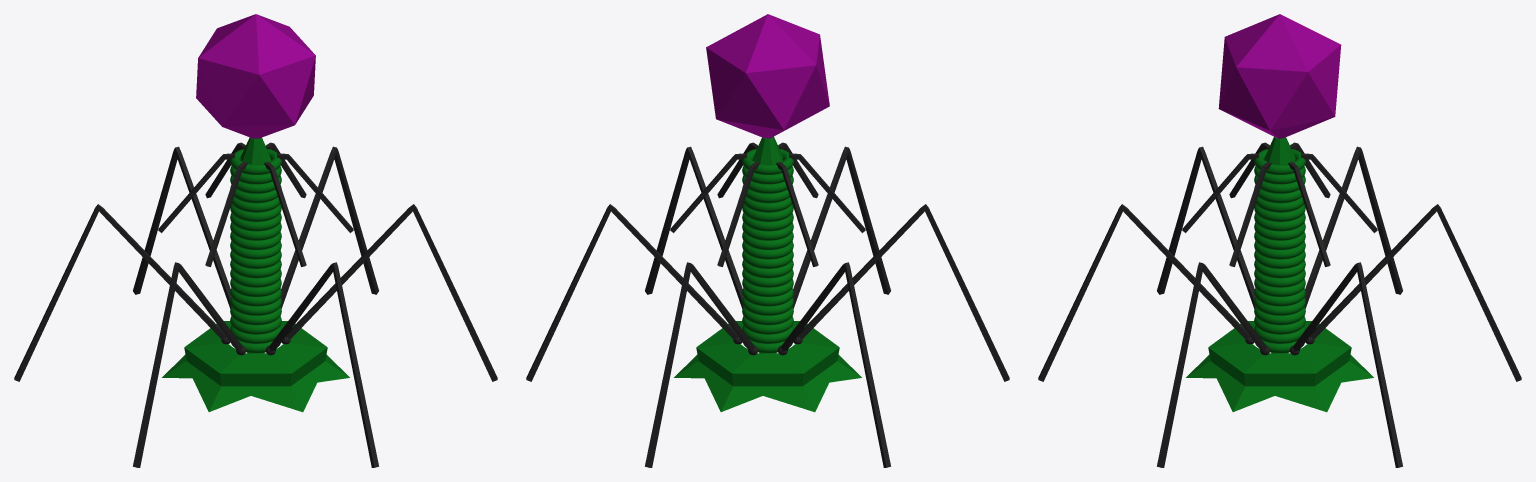
Rendered from virus.glb.
The picture shows the model from 3 angles, left to right: view 1: azimuth 30°, elevation 25°; view 2: azimuth 150°, elevation 25°; view 3: azimuth 270°, elevation 25°; orthographic projection.
Visible parts, largest first — view 1: Vert.006; view 2: Vert.006; view 3: Vert.006.
Boxes of the visible parts, left/top/right/bottom form: Vert.006: left=14, top=14, right=497, bottom=467; Vert.006: left=526, top=14, right=1009, bottom=467; Vert.006: left=1038, top=14, right=1521, bottom=467.
Bounding box in the file's own units: 6.07 × 5.87 × 6.97.
